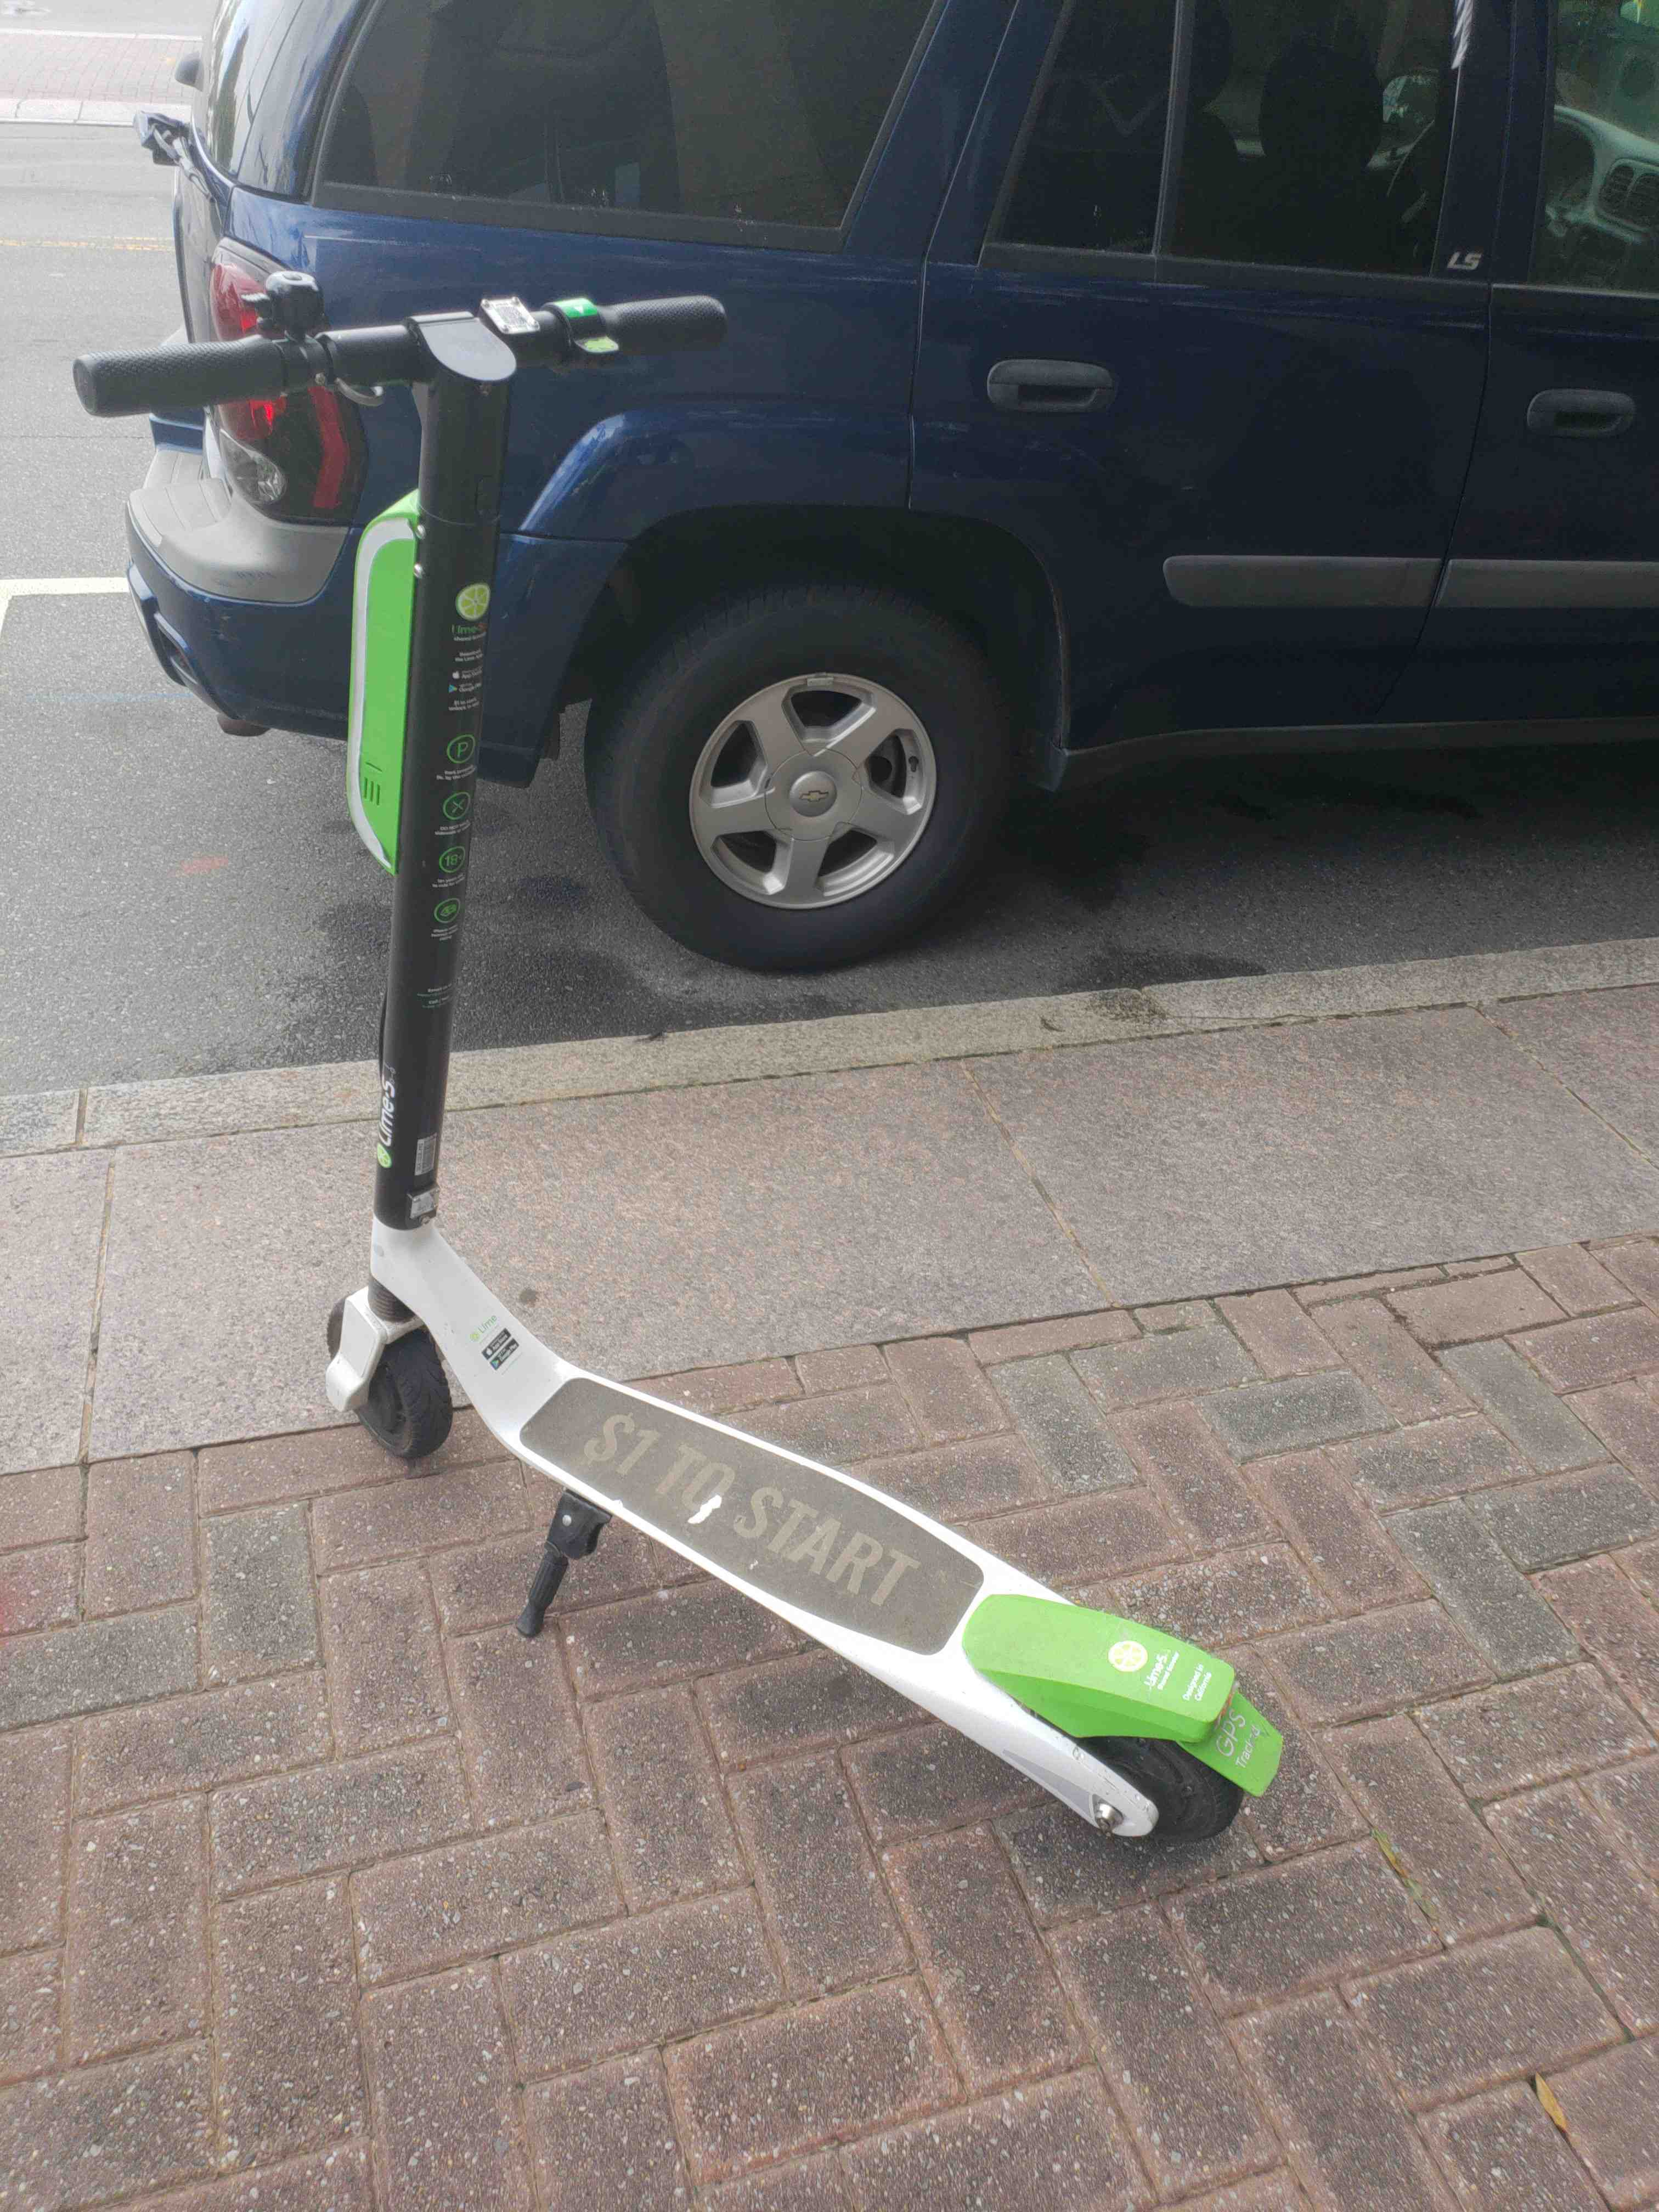scooter: (49, 207, 1338, 1888)
